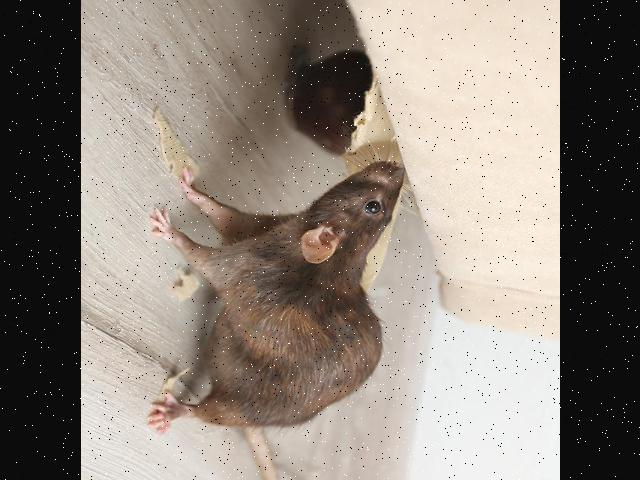Tikus: (142, 160, 408, 442)
